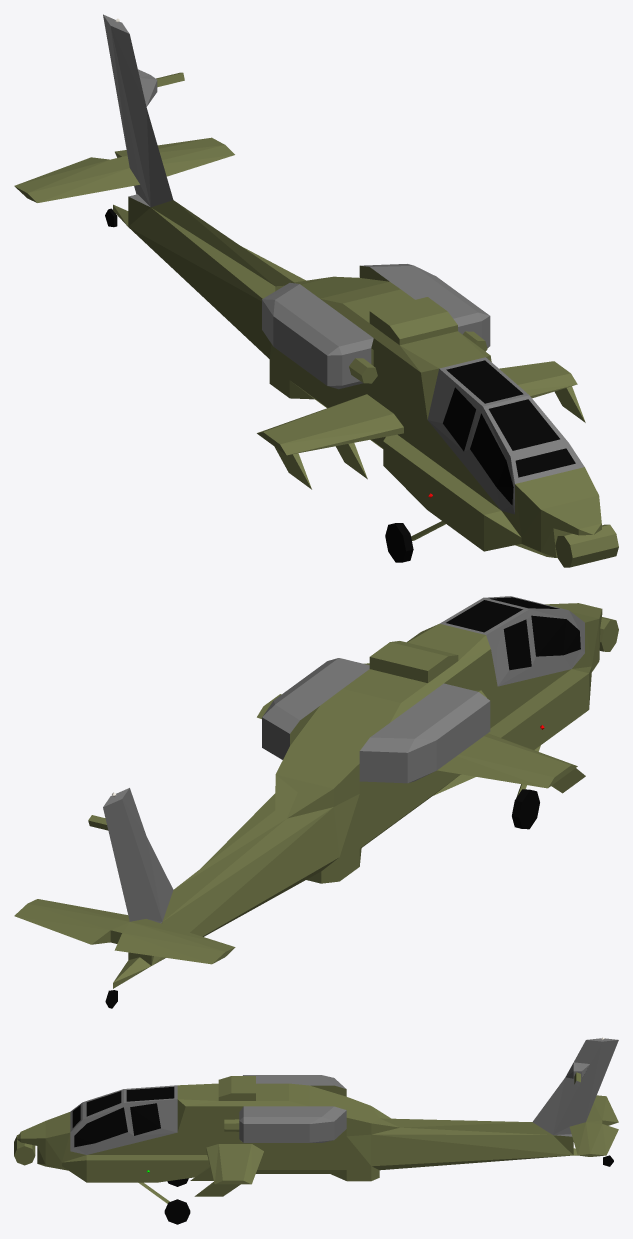
File: APACHE.glb
3 renders of one model, top to bottom at view 1: azimuth 30°, elevation 25°; view 2: azimuth 150°, elevation 25°; view 3: azimuth 270°, elevation 25°, orthographic. The views are drawn at different scales.
Visible parts, largest first — view 1: APACHE | archived geometry; view 2: APACHE | archived geometry; view 3: APACHE | archived geometry.
Boxes of the visible parts, x1,y1,x2,y2 form: APACHE | archived geometry: (14,14,618,567); APACHE | archived geometry: (14,596,618,1008); APACHE | archived geometry: (14,1038,618,1224).
Size of the model in its own units: 3.94 by 3.54 by 11.54.
